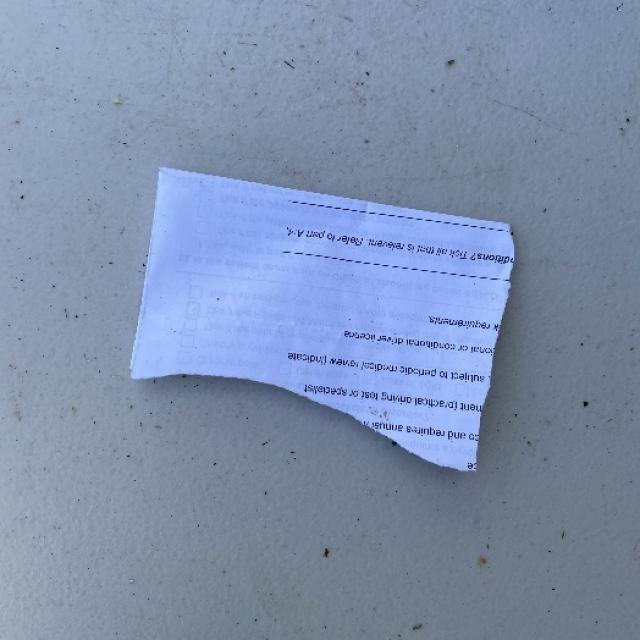paper: (128, 165, 516, 473)
